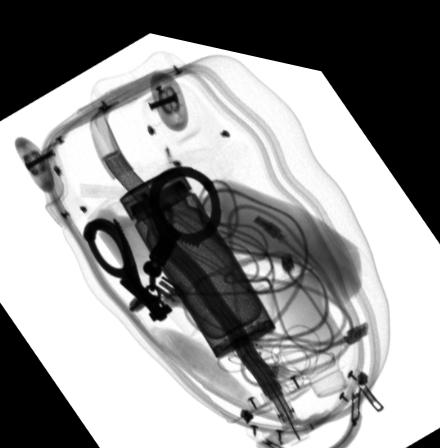HandCuffs: (81, 155, 222, 315)
